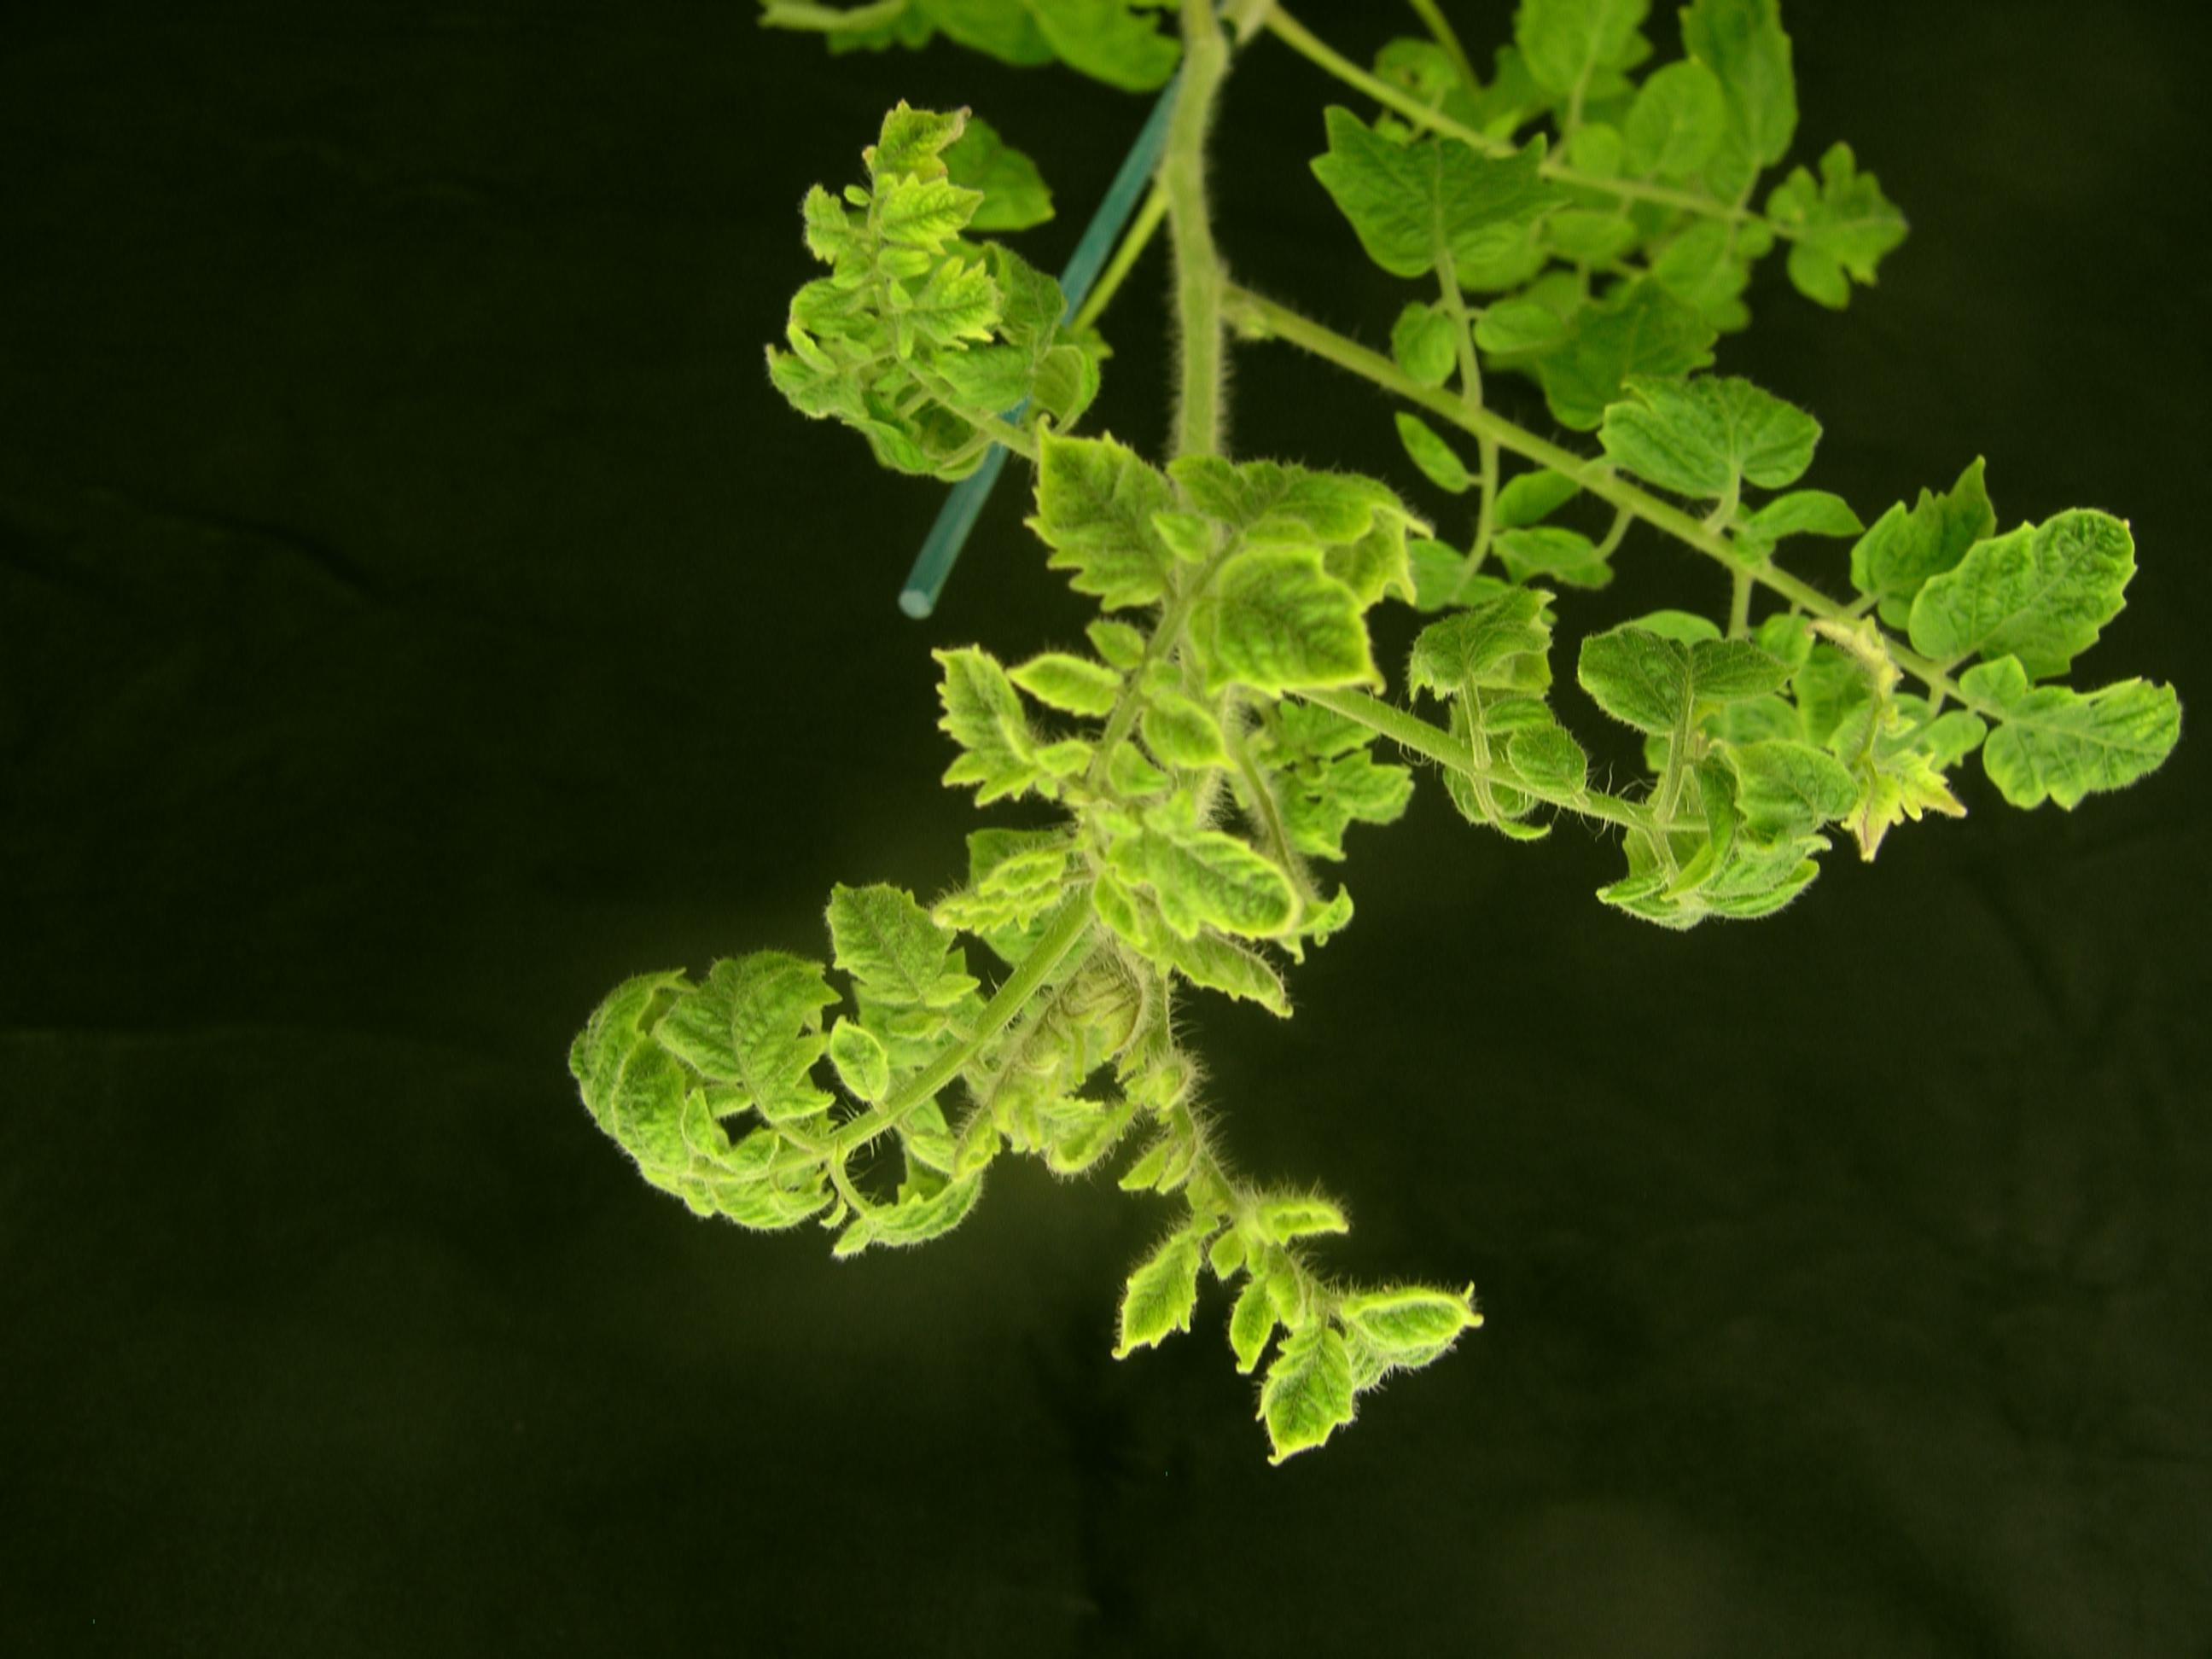Tomato leaf yellow virus: (1188, 518, 1414, 721), (1886, 511, 2137, 678), (1968, 641, 2188, 828), (1017, 404, 1174, 612), (801, 871, 970, 1026), (1123, 819, 1308, 948), (916, 641, 1057, 796), (719, 953, 838, 1136), (1244, 1316, 1359, 1504), (862, 77, 982, 211), (1348, 1277, 1505, 1368), (880, 272, 1010, 368), (709, 1162, 826, 1251), (873, 185, 1001, 253)
